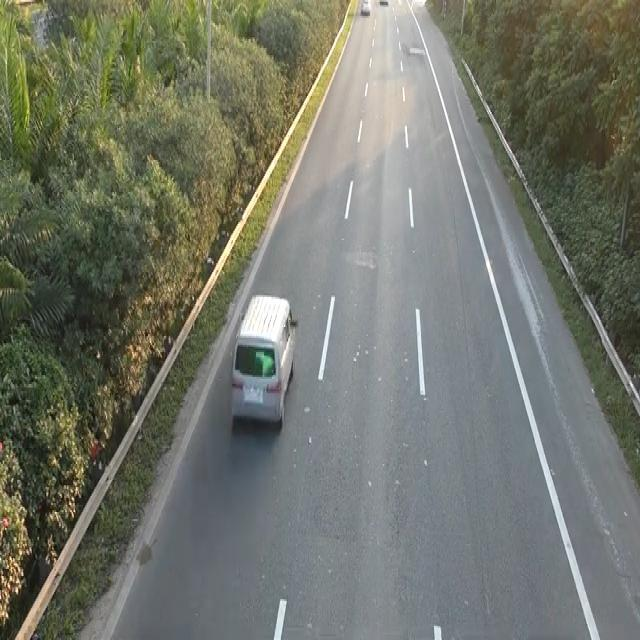lorry: (228, 290, 298, 430)
